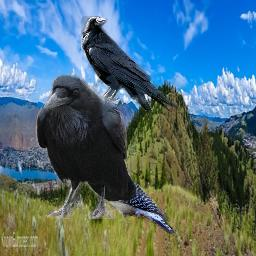Crow: (35, 73, 138, 219), (81, 16, 181, 111)
Woodpecker: (79, 159, 176, 234)
